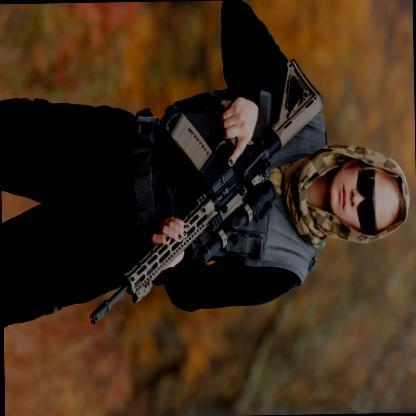rifle: (79, 60, 338, 322)
